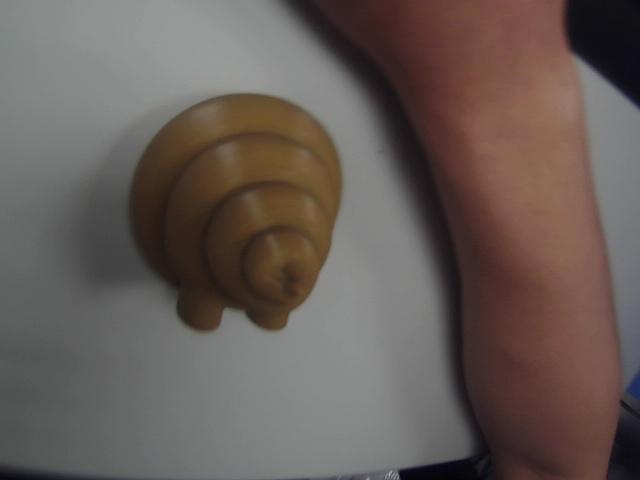shit: (110, 86, 371, 348)
